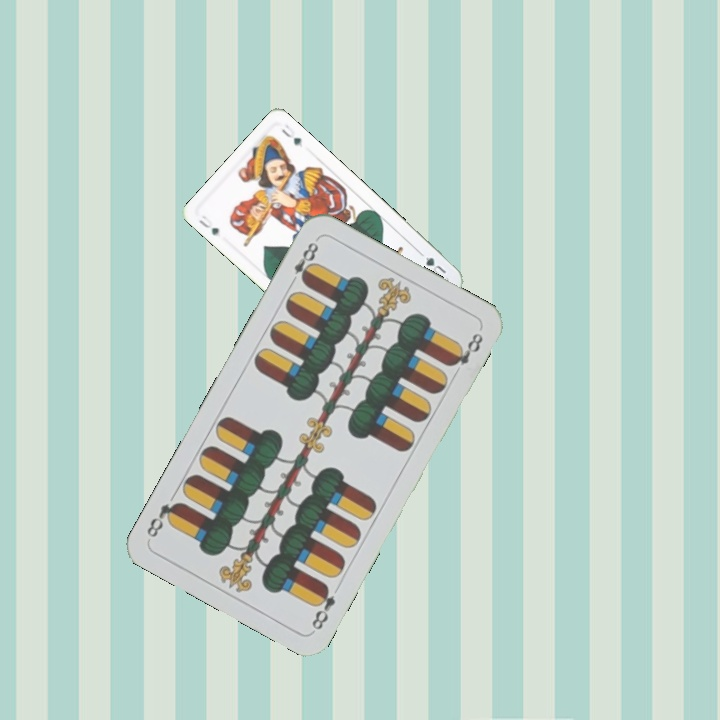E8: (285, 238, 321, 289), (307, 580, 338, 633)
GU: (416, 249, 449, 280), (195, 211, 222, 239)
